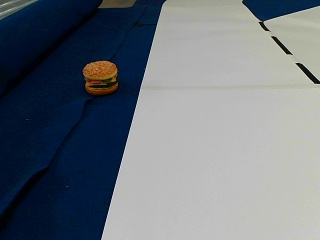burger: (81, 60, 118, 94)
